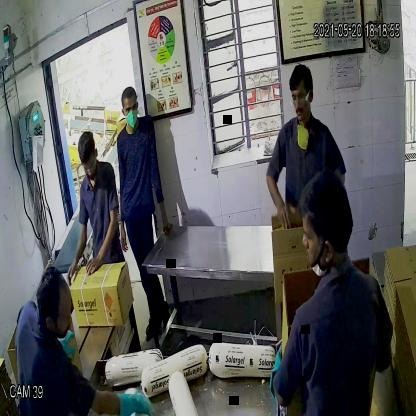goggles: (290, 90, 312, 107)
no_goggles: (119, 104, 140, 116)
